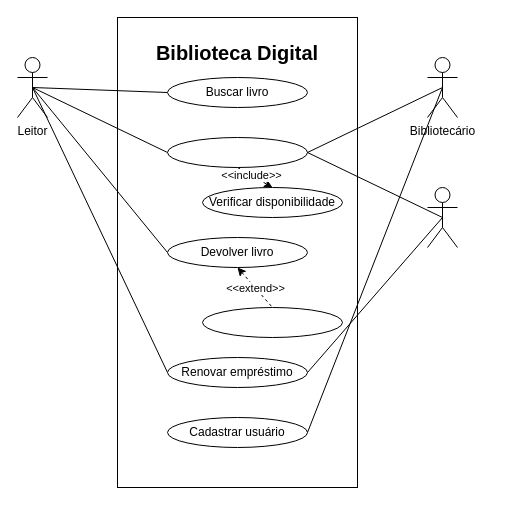
Some shapes in this 525 by 505 pixel diagram are drawn without their labels. The shapes that lost their labels are listed below. From the top down, each one's centre as x and y in pixels, then its label:
At point 237,152: "Emprestar livro".
At point 442,217: "Sistemas de Pagamento".
At point 272,322: "Aplicar multa".
